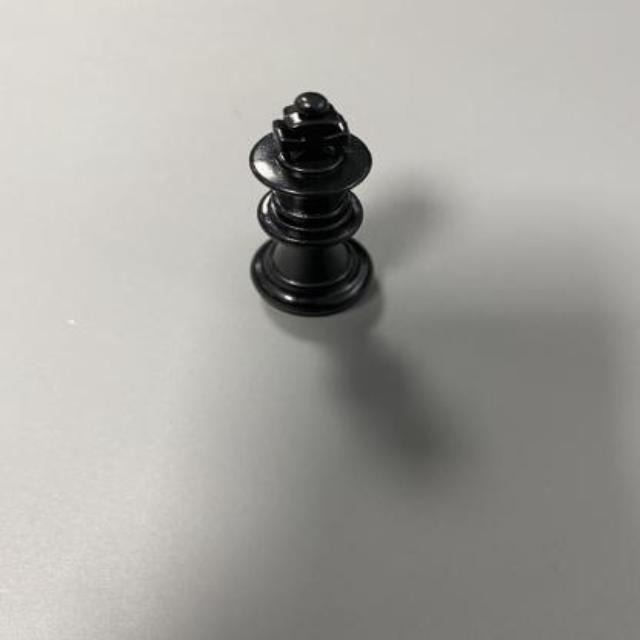black-king: (243, 93, 372, 317)
